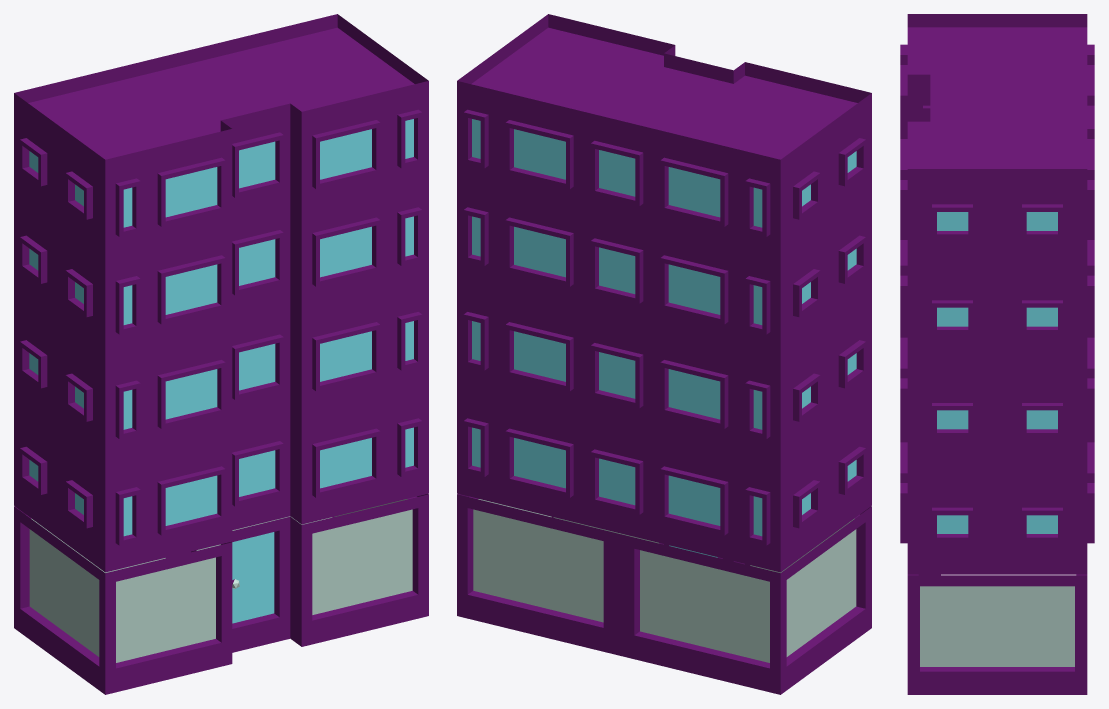
The model's file is Predio.gltf.
3 views of the same model, side by side, from view 1: azimuth 30°, elevation 25°; view 2: azimuth 150°, elevation 25°; view 3: azimuth 270°, elevation 25° (orthographic).
Visible parts, largest first — view 1: Cube.014; view 2: Cube.014; view 3: Cube.014.
Boxes of the visible parts, bbox=[...] form: Cube.014: bbox=[14, 14, 428, 694]; Cube.014: bbox=[457, 14, 871, 694]; Cube.014: bbox=[900, 14, 1094, 694].
Size of the model in its own units: 2.85 by 4.32 by 1.45.
